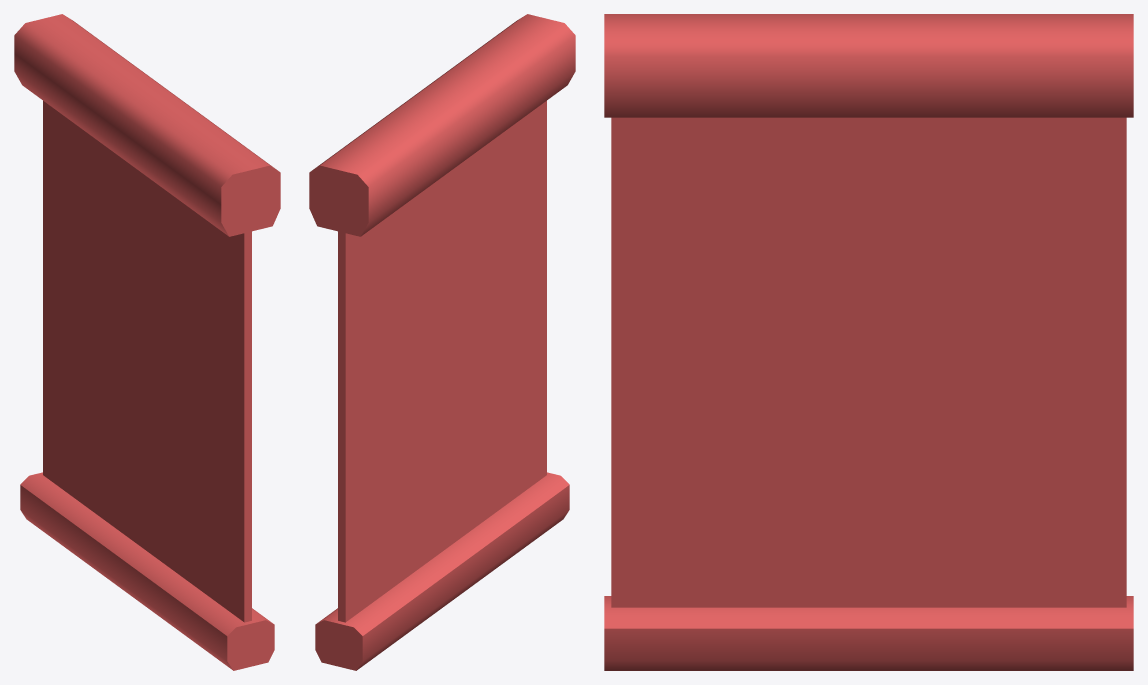
Rendered from lavaDing_12.fbx.
The picture shows the model from 3 angles, left to right: view 1: azimuth 30°, elevation 25°; view 2: azimuth 150°, elevation 25°; view 3: azimuth 270°, elevation 25°; orthographic projection. The views are drawn at different scales.
Visible parts, largest first — view 1: Cube.022, Cube.025, Cube.031; view 2: Cube.022, Cube.025, Cube.031; view 3: Cube.022, Cube.025, Cube.031.
Boxes of the visible parts, left/top/right/bottom form: Cube.022: left=43, top=101, right=251, bottom=622; Cube.025: left=14, top=14, right=280, bottom=236; Cube.031: left=20, top=472, right=274, bottom=670; Cube.022: left=338, top=101, right=546, bottom=622; Cube.025: left=309, top=14, right=575, bottom=236; Cube.031: left=315, top=472, right=569, bottom=670; Cube.022: left=611, top=117, right=1126, bottom=607; Cube.025: left=604, top=14, right=1133, bottom=117; Cube.031: left=604, top=596, right=1133, bottom=670.
Size of the model in its own units: 27.22 by 218 by 164.
